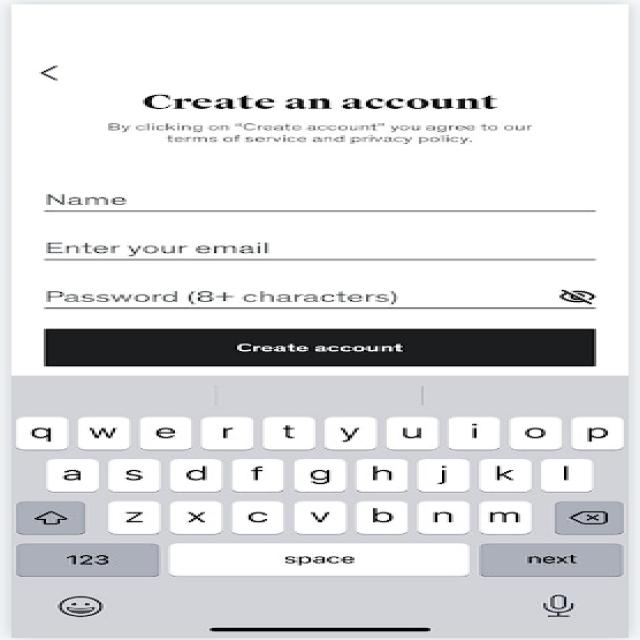button: (32, 323, 607, 376)
icon button: (26, 56, 89, 91)
input: (29, 216, 607, 269), (26, 169, 607, 217), (29, 267, 607, 313)
text: (90, 87, 561, 155)
